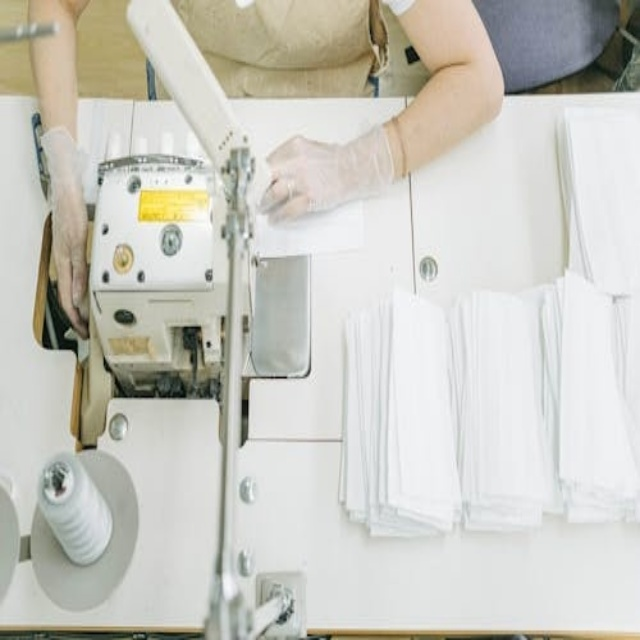Guantes: (256, 122, 401, 220), (41, 128, 92, 335)
